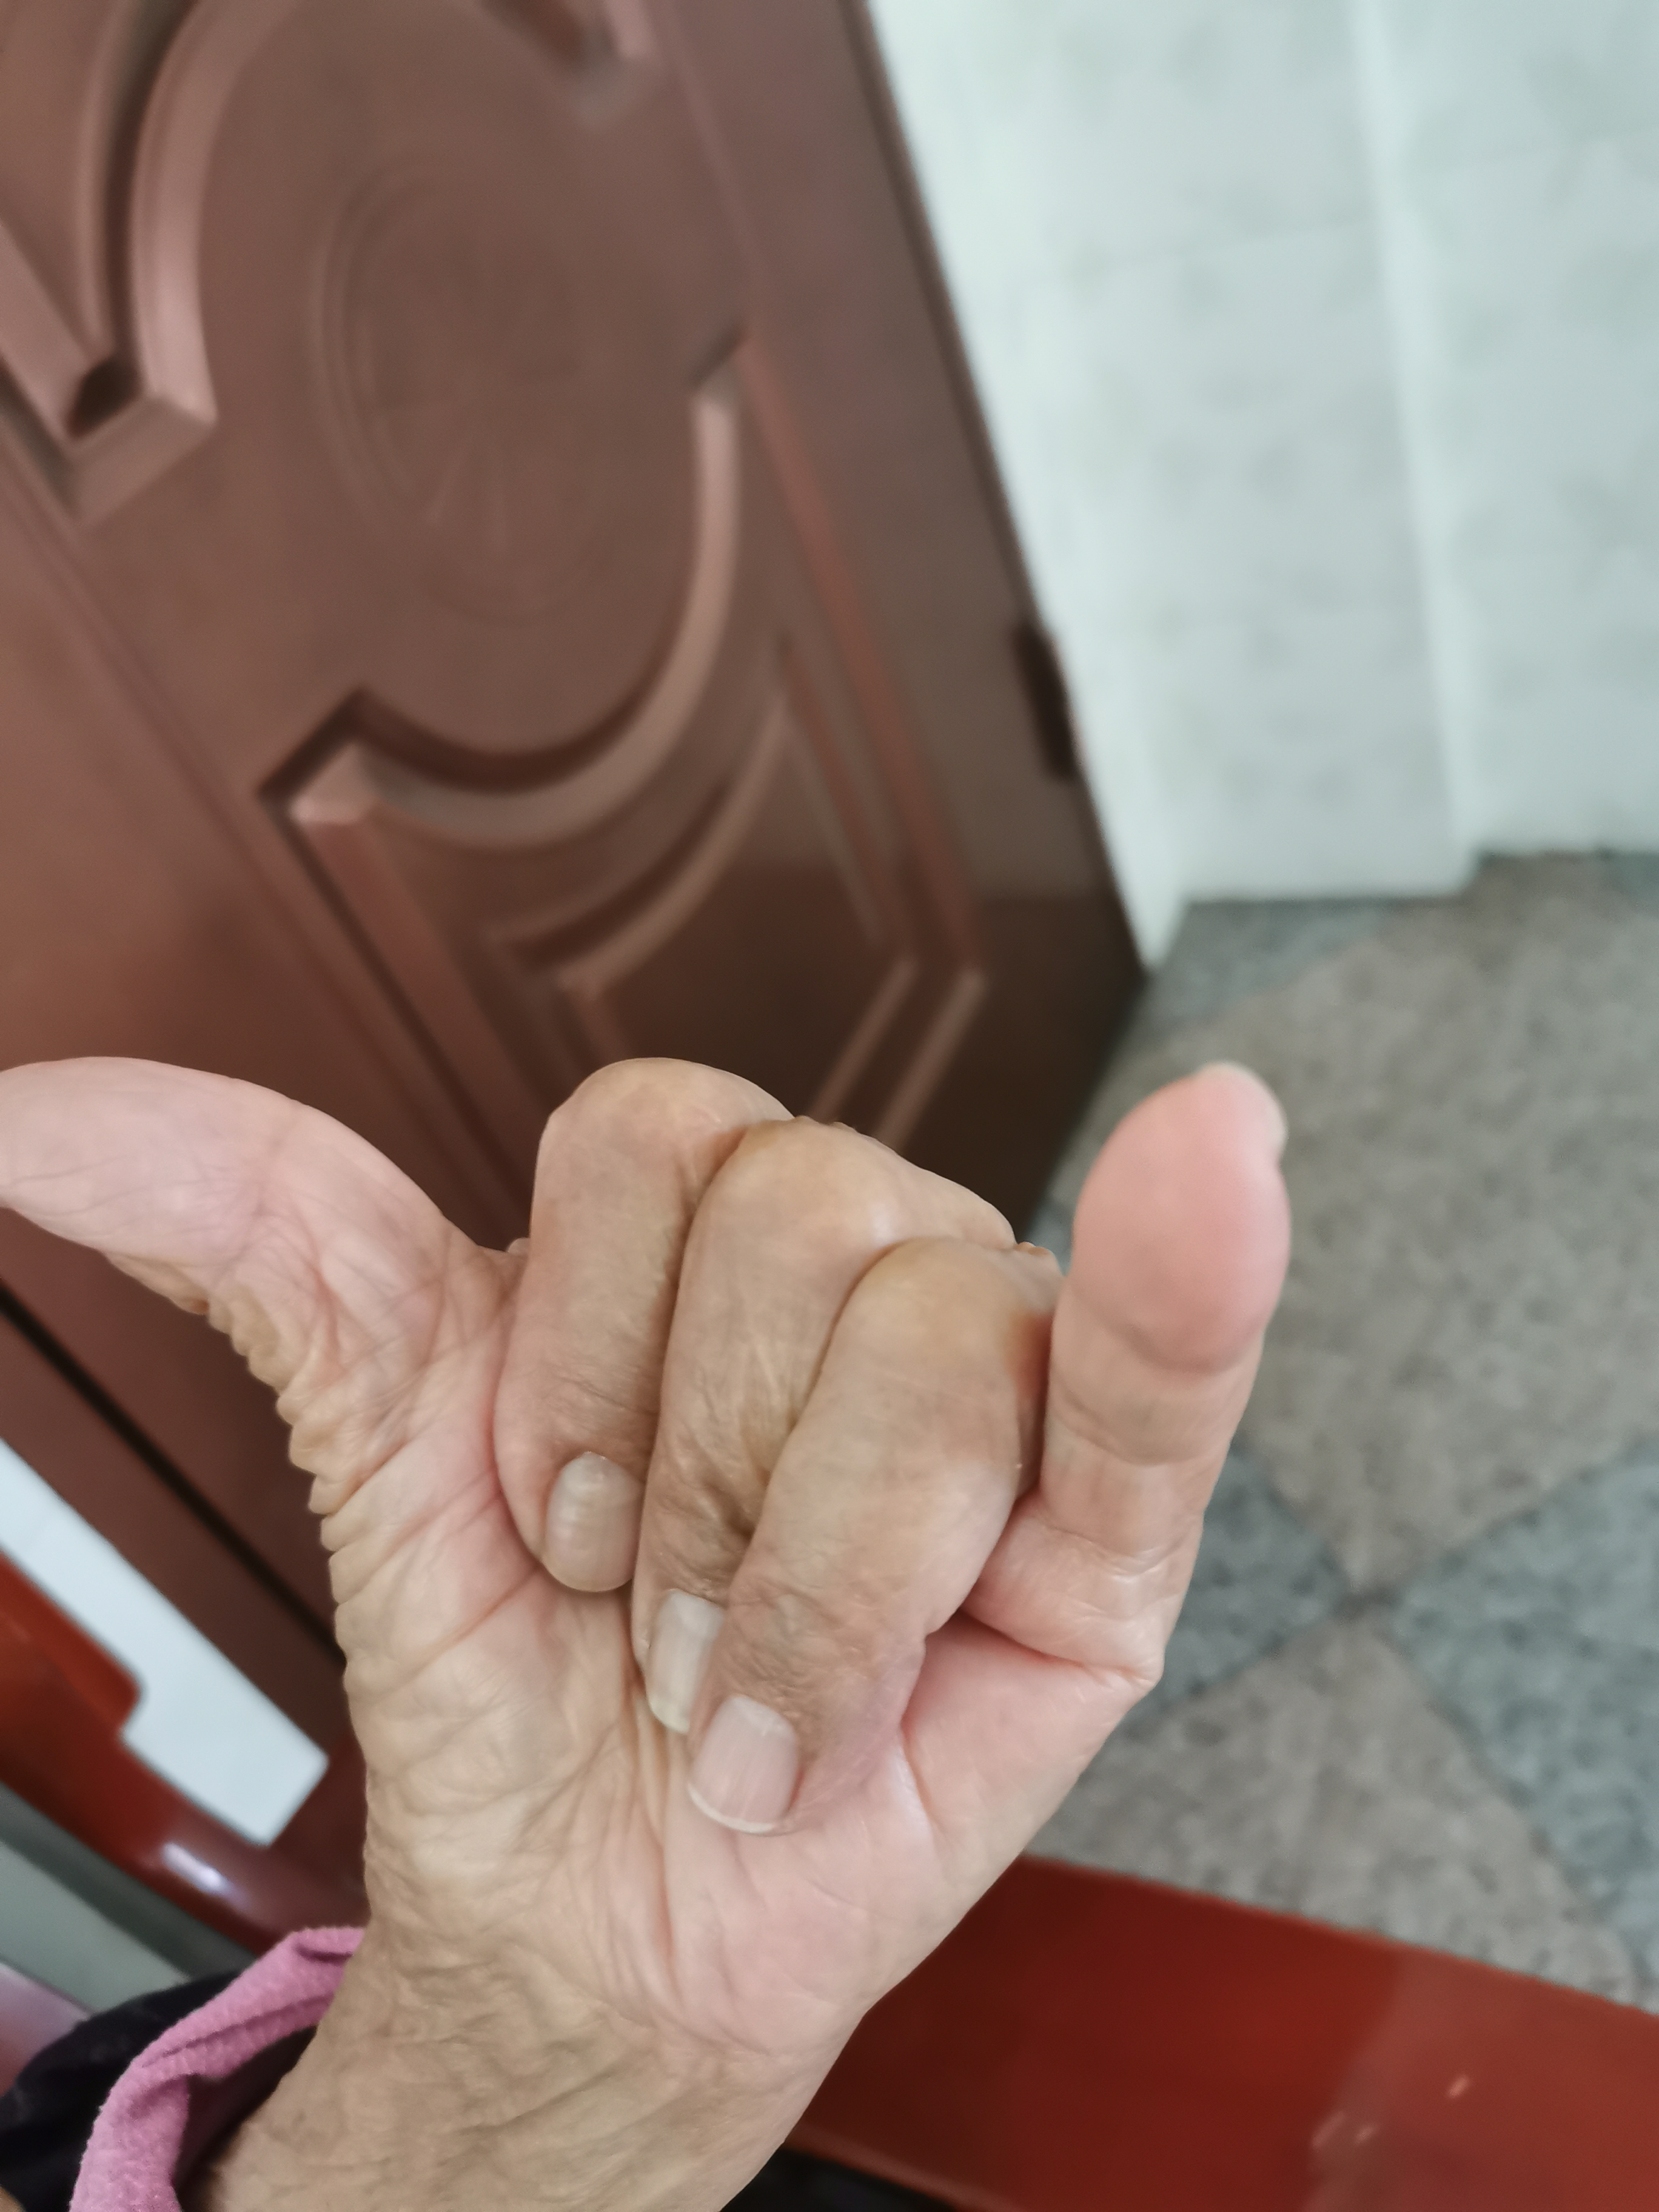clockwise: (28, 1031, 1316, 1879)
